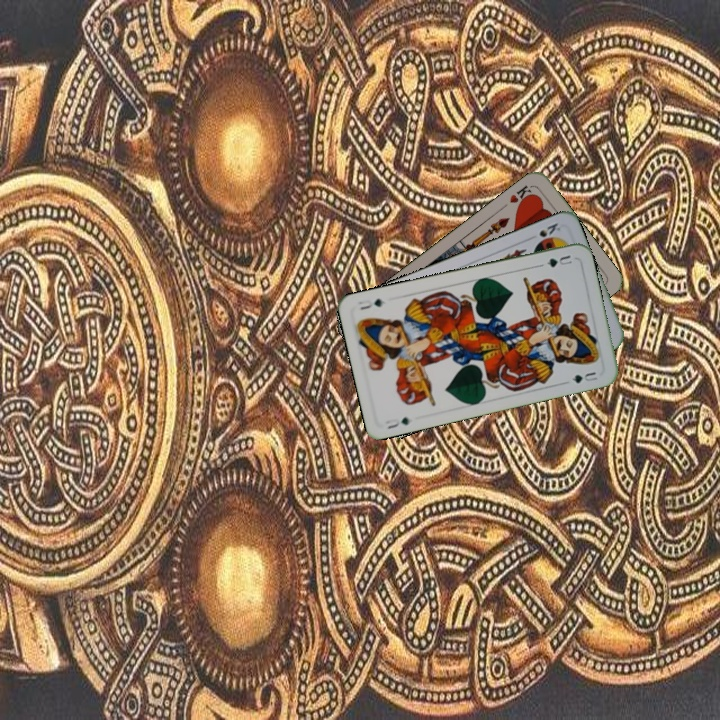GU: (543, 251, 575, 270), (381, 413, 411, 431)
HK: (505, 181, 536, 209)
SK: (535, 219, 563, 240)
